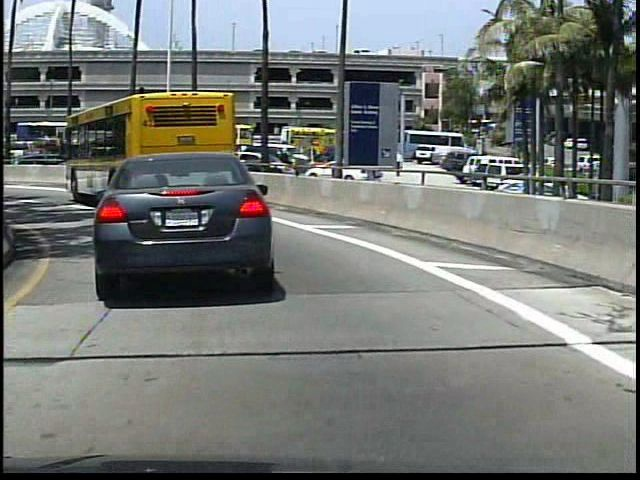person: (276, 146, 292, 179), (393, 149, 404, 179)
